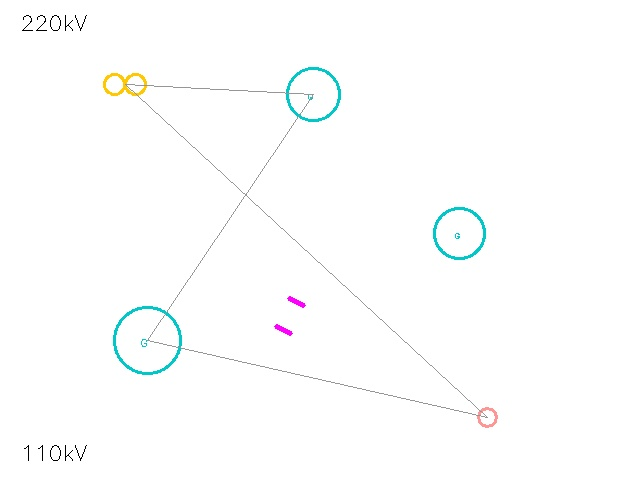capacitor: (264, 290, 316, 342)
feeder_terminal: (469, 399, 505, 435)
generator: (114, 307, 180, 373), (287, 68, 339, 120), (434, 208, 484, 258)
transformer_2w: (98, 57, 152, 111)
